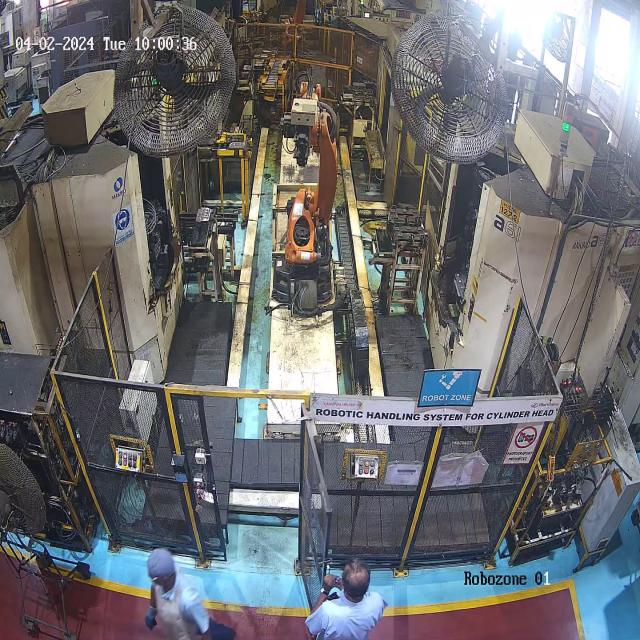person: (136, 546, 234, 640), (302, 560, 388, 640)
